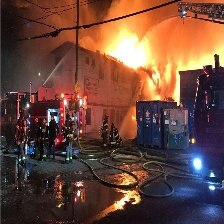fire: (114, 38, 139, 64)
smoke: (144, 4, 222, 100)
